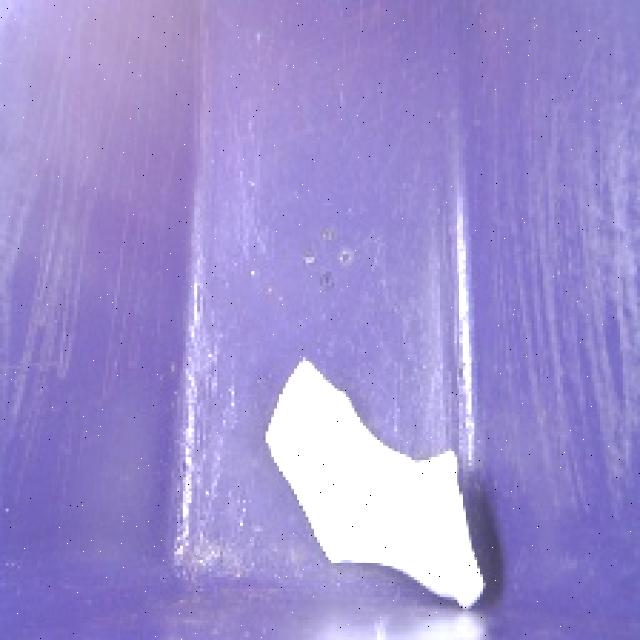china: (258, 352, 508, 608)
